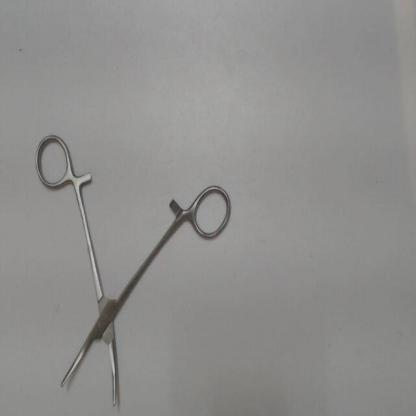Crile Artery Forceps: (31, 128, 235, 410)
